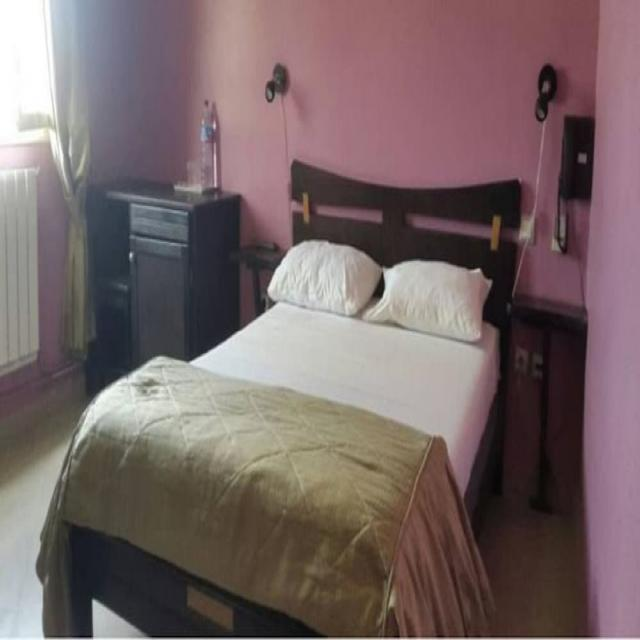bed: (70, 196, 472, 634)
beside table: (83, 158, 217, 433)
